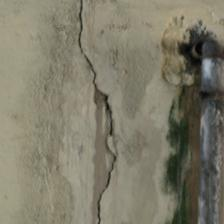Crack: (39, 1, 82, 220)
